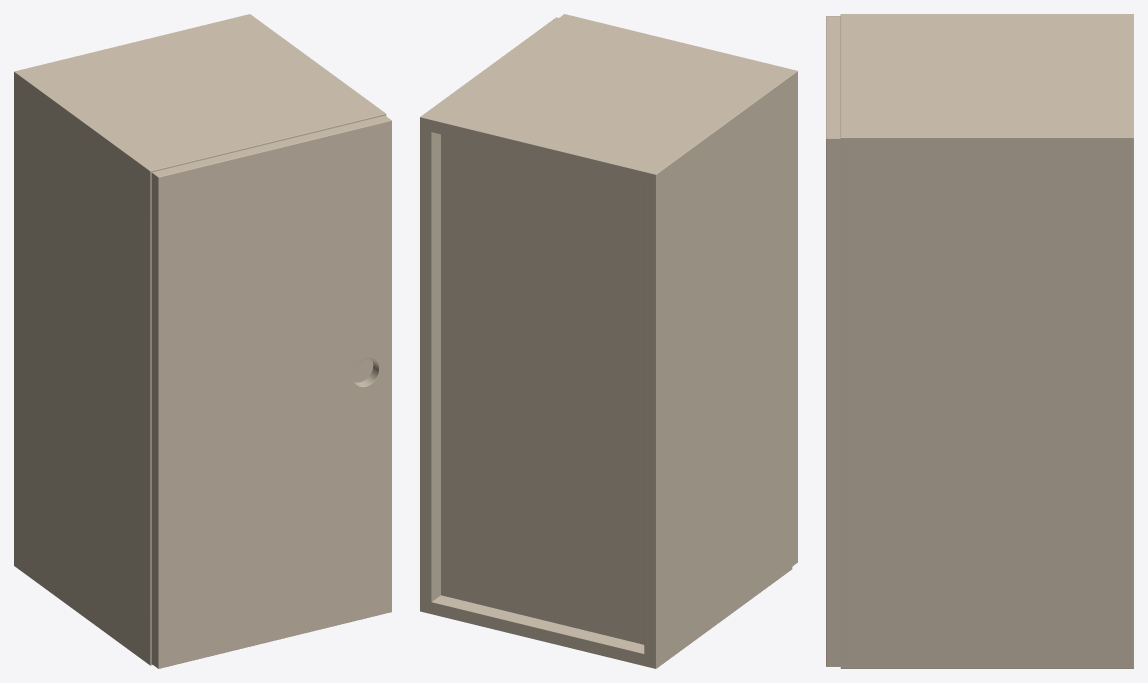
The model's file is MOD-1X2-D-B-DER-AR.glb.
3 renders of one model, left to right at view 1: azimuth 30°, elevation 25°; view 2: azimuth 150°, elevation 25°; view 3: azimuth 270°, elevation 25°, orthographic. The views are drawn at different scales.
Bounding box in the file's own units: 360 × 720 × 378.
